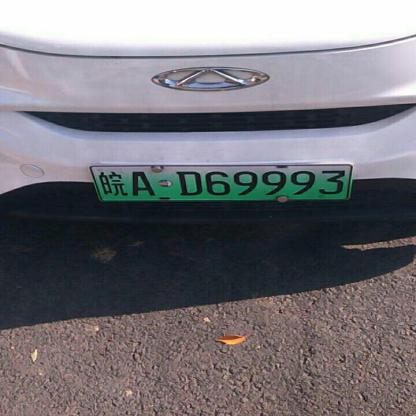lp: (89, 165, 350, 200)
